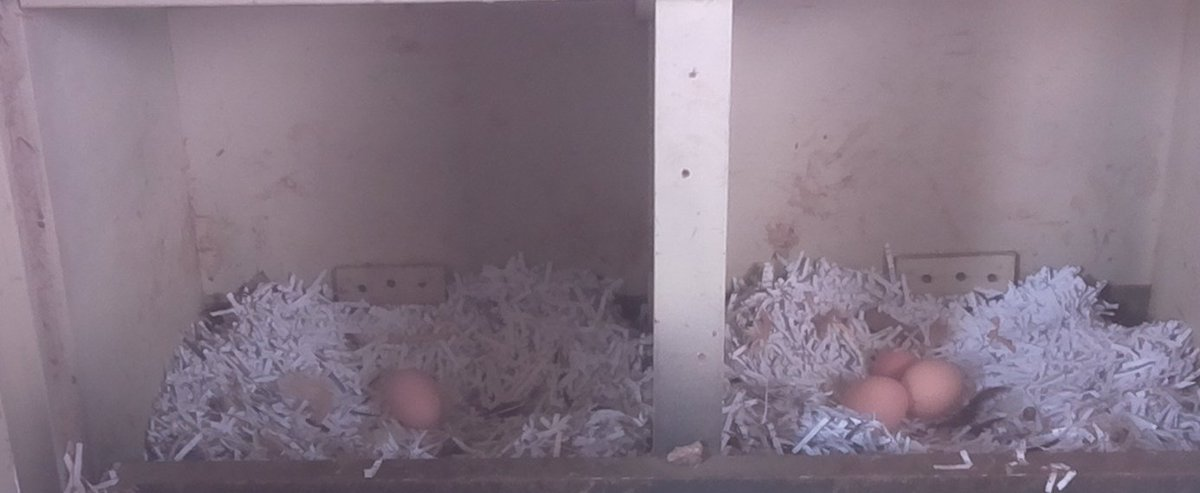egg: (375, 365, 451, 432), (902, 358, 969, 426), (844, 373, 914, 437), (865, 347, 919, 378)
